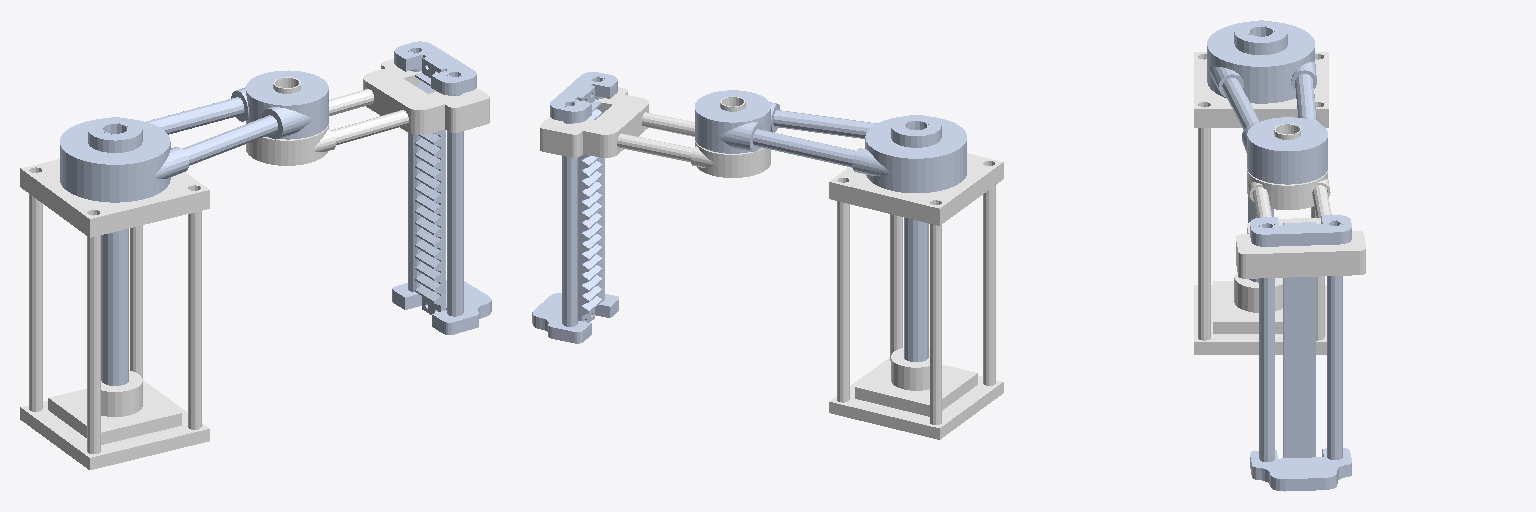
robot.urdf — robotSCARA:
<?xml version="1.0" encoding="utf-8"?>
<!-- This URDF was automatically created by SolidWorks to URDF Exporter! Originally created by Stephen Brawner (brawner@gmail.com) 
     Commit Version: 1.6.0-4-g7f85cfe  Build Version: 1.6.7995.38578
     For more information, please see http://wiki.ros.org/sw_urdf_exporter -->
<robot
  name="robotSCARA">
  <link
    name="base_link">
    <inertial>
      <origin
        xyz="-8.24981831132208E-16 -2.06977155180624E-16 0.0986593576349687"
        rpy="0 0 0" />
      <mass
        value="0.452327737140302" />
      <inertia
        ixx="0.000378452379819395"
        ixy="3.96942236294751E-19"
        ixz="1.17803864394129E-19"
        iyy="0.000378452379819395"
        iyz="-3.91045900025848E-20"
        izz="0.000620483672178546" />
    </inertial>
    <visual>
      <origin
        xyz="0 0 0"
        rpy="0 0 0" />
      <geometry>
        <mesh
          filename="package://robotSCARA/meshes/base_link.STL" />
      </geometry>
      <material
        name="">
        <color
          rgba="1 1 1 1" />
      </material>
    </visual>
    <collision>
      <origin
        xyz="0 0 0"
        rpy="0 0 0" />
      <geometry>
        <mesh
          filename="package://robotSCARA/meshes/base_link.STL" />
      </geometry>
    </collision>
  </link>
  <link
    name="Brazolargo_link">
    <inertial>
      <origin
        xyz="0.0449746700876207 0.00572575947934414 0.179748213950828"
        rpy="0 0 0" />
      <mass
        value="0.372293769888142" />
      <inertia
        ixx="0.000277229449143451"
        ixy="-8.36213433414768E-06"
        ixz="2.5116112085686E-08"
        iyy="0.000341827122837935"
        iyz="3.28054903736071E-09"
        izz="0.000291255476814182" />
    </inertial>
    <visual>
      <origin
        xyz="0 0 0"
        rpy="0 0 0" />
      <geometry>
        <mesh
          filename="package://robotSCARA/meshes/Brazolargo_link.STL" />
      </geometry>
      <material
        name="">
        <color
          rgba="0.866666666666667 0.909803921568627 1 1" />
      </material>
    </visual>
    <collision>
      <origin
        xyz="0 0 0"
        rpy="0 0 0" />
      <geometry>
        <mesh
          filename="package://robotSCARA/meshes/Brazolargo_link.STL" />
      </geometry>
    </collision>
  </link>
  <joint
    name="Brazolargo_joint"
    type="continuous">
    <origin
      xyz="0 0 0.028"
      rpy="0 0 0" />
    <parent
      link="base_link" />
    <child
      link="Brazolargo_link" />
    <axis
      xyz="0 0 1" />
  </joint>
  <link
    name="Brazocorto_link">
    <inertial>
      <origin
        xyz="0.0694835563402382 0.00525566197858263 -0.0414746523055035"
        rpy="0 0 0" />
      <mass
        value="0.21068967739346" />
      <inertia
        ixx="0.00010977234132843"
        ixy="1.89928638799796E-06"
        ixz="1.32570707273304E-08"
        iyy="8.48110963487405E-05"
        iyz="8.02669798465583E-10"
        izz="0.000174309589826302" />
    </inertial>
    <visual>
      <origin
        xyz="0 0 0"
        rpy="0 0 0" />
      <geometry>
        <mesh
          filename="package://robotSCARA/meshes/Brazocorto_link.STL" />
      </geometry>
      <material
        name="">
        <color
          rgba="1 1 1 1" />
      </material>
    </visual>
    <collision>
      <origin
        xyz="0 0 0"
        rpy="0 0 0" />
      <geometry>
        <mesh
          filename="package://robotSCARA/meshes/Brazocorto_link.STL" />
      </geometry>
    </collision>
  </link>
  <joint
    name="Brazocorto_joint"
    type="continuous">
    <origin
      xyz="0.15468 0.019691 0.2045"
      rpy="0 0 0" />
    <parent
      link="Brazolargo_link" />
    <child
      link="Brazocorto_link" />
    <axis
      xyz="0 0 1" />
  </joint>
  <link
    name="Actuador_link">
    <inertial>
      <origin
        xyz="-0.0099748501847331 0.000974890457157235 -0.0907688854070704"
        rpy="0 0 0" />
      <mass
        value="0.155372116662273" />
      <inertia
        ixx="0.000342840252728658"
        ixy="-1.44734159500994E-06"
        ixz="-1.19858206538947E-08"
        iyy="0.000323815082818613"
        iyz="9.06605552275155E-10"
        izz="3.76060317326654E-05" />
    </inertial>
    <visual>
      <origin
        xyz="0 0 0"
        rpy="0 0 0" />
      <geometry>
        <mesh
          filename="package://robotSCARA/meshes/Actuador_link.STL" />
      </geometry>
      <material
        name="">
        <color
          rgba="0.866666666666667 0.909803921568627 1 1" />
      </material>
    </visual>
    <collision>
      <origin
        xyz="0 0 0"
        rpy="0 0 0" />
      <geometry>
        <mesh
          filename="package://robotSCARA/meshes/Actuador_link.STL" />
      </geometry>
    </collision>
  </link>
  <joint
    name="Actuador_joint"
    type="prismatic">
    <origin
      xyz="0.14124 0.010683 -0.21754"
      rpy="3.1416 0 0" />
    <parent
      link="Brazocorto_link" />
    <child
      link="Actuador_link" />
    <axis
      xyz="0 0 1" />
    <limit
      lower="-0.15"
      upper="0"
      effort="0"
      velocity="0" />
  </joint>
</robot>

--- Render facts (derived) ---
3 views of the same robot in one strip: view 1: azimuth 30°, elevation 25°; view 2: azimuth 150°, elevation 25°; view 3: azimuth 270°, elevation 25° (orthographic).
Model robotSCARA with 4 links and 3 joints (2 continuous, 1 prismatic), rooted at base_link, posed all joints at 0.
Links seen in each view (by area): view 1: base_link, Brazolargo_link, Actuador_link, Brazocorto_link; view 2: base_link, Brazolargo_link, Actuador_link, Brazocorto_link; view 3: Actuador_link, Brazolargo_link, base_link, Brazocorto_link.
Link boxes in pixels (x1,y1,x2,y2): base_link: (20, 159, 209, 469); Brazolargo_link: (60, 70, 328, 385); Actuador_link: (392, 41, 491, 334); Brazocorto_link: (246, 59, 489, 165); base_link: (829, 153, 1003, 439); Brazolargo_link: (695, 90, 966, 361); Actuador_link: (532, 72, 618, 343); Brazocorto_link: (540, 87, 770, 177); Actuador_link: (1250, 215, 1351, 491); Brazolargo_link: (1207, 20, 1327, 282); base_link: (1194, 52, 1328, 354); Brazocorto_link: (1236, 124, 1365, 278).
Bounding box of the posed robot: 0.3713 × 0.1278 × 0.24 m (x, y, z).
Meshes: 4 distinct files referenced, 4 mesh visuals loaded (4 binary STL).
